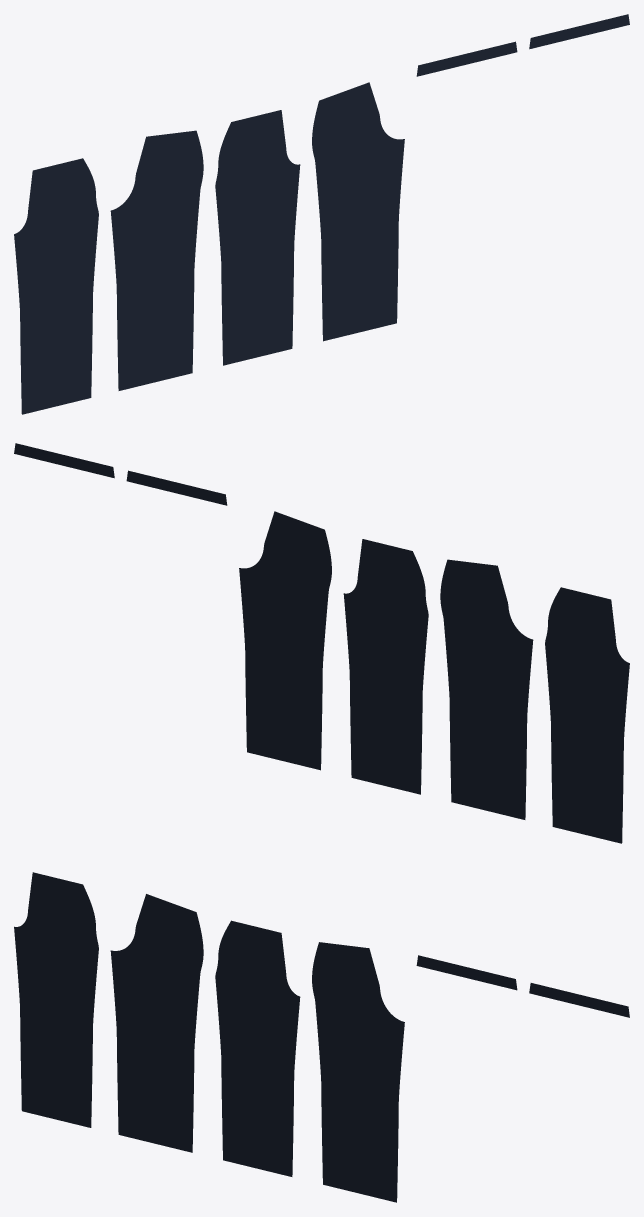
The model's file is jean-pierna-ancha-parche-talla-L.glb.
The picture shows the model from 3 angles, top to bottom: view 1: azimuth 30°, elevation 25°; view 2: azimuth 150°, elevation 25°; view 3: azimuth 330°, elevation 25°; orthographic projection.
Visible parts, largest first — view 1: patron-espalda-der, patron-espalda-izq, patron-delantero-izq, patron-delantero-der, patron-pretina-trasera, patron-pretina-delantera; view 2: patron-espalda-der, patron-espalda-izq, patron-delantero-izq, patron-delantero-der, patron-pretina-trasera, patron-pretina-delantera; view 3: patron-espalda-der, patron-espalda-izq, patron-delantero-izq, patron-delantero-der, patron-pretina-delantera, patron-pretina-trasera.
Part boxes in pixels (left/top/right/bottom): patron-espalda-der: left=312, top=82, right=404, bottom=341; patron-espalda-izq: left=110, top=130, right=203, bottom=390; patron-delantero-izq: left=14, top=158, right=98, bottom=414; patron-delantero-der: left=215, top=110, right=300, bottom=365; patron-pretina-trasera: left=529, top=14, right=629, bottom=49; patron-pretina-delantera: left=416, top=41, right=517, bottom=76; patron-espalda-der: left=239, top=511, right=331, bottom=770; patron-espalda-izq: left=440, top=559, right=533, bottom=819; patron-delantero-izq: left=545, top=587, right=629, bottom=843; patron-delantero-der: left=343, top=539, right=428, bottom=794; patron-pretina-trasera: left=14, top=443, right=114, bottom=478; patron-pretina-delantera: left=126, top=470, right=227, bottom=505; patron-espalda-der: left=312, top=942, right=404, bottom=1202; patron-espalda-izq: left=110, top=894, right=203, bottom=1152; patron-delantero-izq: left=14, top=872, right=98, bottom=1127; patron-delantero-der: left=215, top=920, right=300, bottom=1176; patron-pretina-delantera: left=416, top=955, right=517, bottom=990; patron-pretina-trasera: left=529, top=983, right=629, bottom=1017.
Size of the model in its own units: 2.63 by 1.03 by 0.
